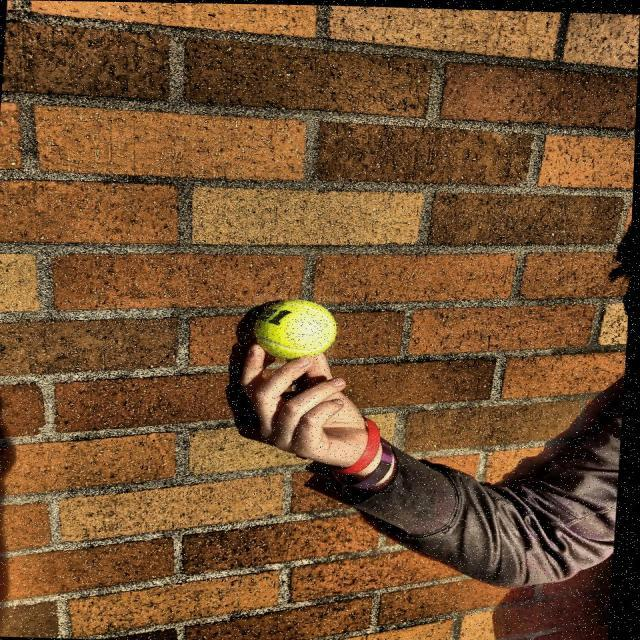tennis-ball: (251, 293, 342, 362)
